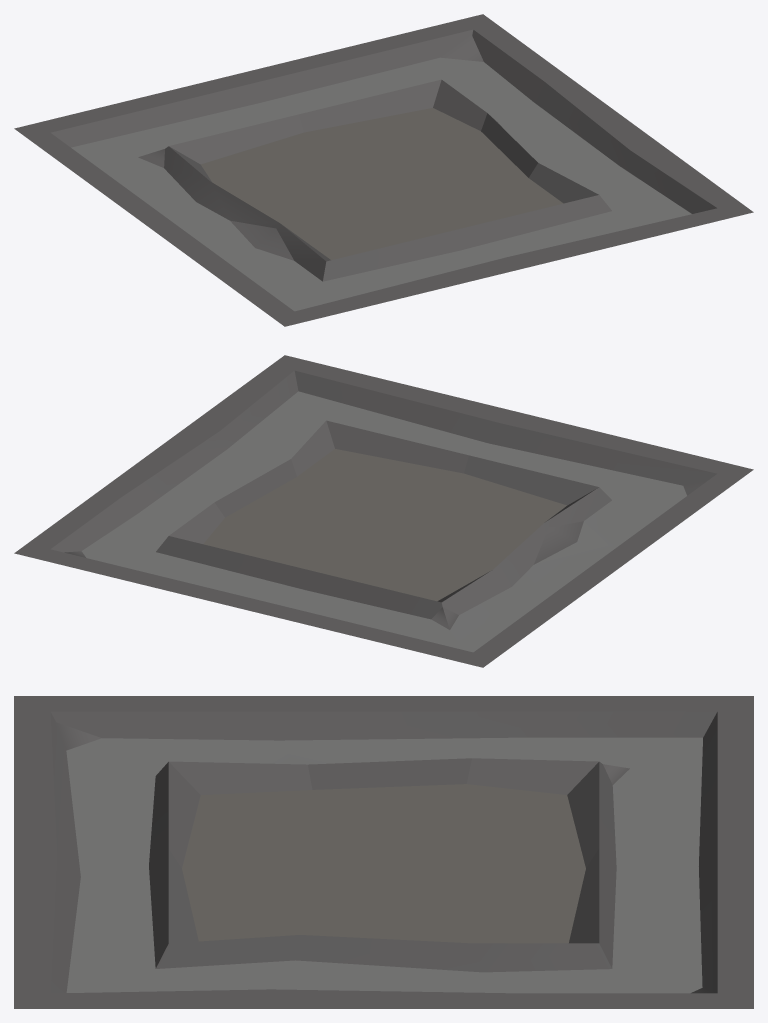
File: SM_Env_Ceiling_Stone_Flat_01.FBX
3 views of the same model, one above another, from view 1: azimuth 30°, elevation 25°; view 2: azimuth 150°, elevation 25°; view 3: azimuth 270°, elevation 25° (orthographic). The views are drawn at different scales.
Visible parts, largest first — view 1: SM_Env_Ceiling_Stone_Flat_01; view 2: SM_Env_Ceiling_Stone_Flat_01; view 3: SM_Env_Ceiling_Stone_Flat_01.
Boxes of the visible parts, x1,y1,x2,y2 form: SM_Env_Ceiling_Stone_Flat_01: (14,14,753,326); SM_Env_Ceiling_Stone_Flat_01: (14,355,753,667); SM_Env_Ceiling_Stone_Flat_01: (14,696,753,1008).
Size of what is drawn, in the model's own units: 500 by 500 by 14.98.
